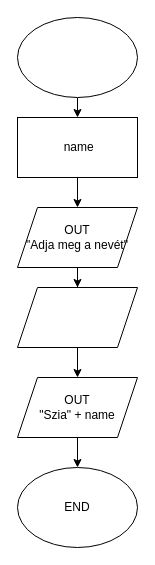
Image size: 155x565. Some labels were removed from this diagram. Each missing label, with the box of its shape:
IN "Bence", name: (16, 286, 138, 348)
START: (16, 16, 138, 98)
